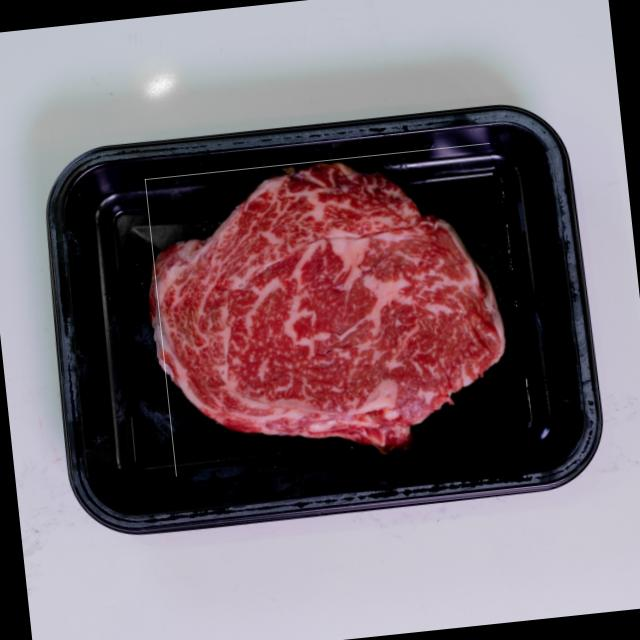beef: (144, 142, 520, 476)
